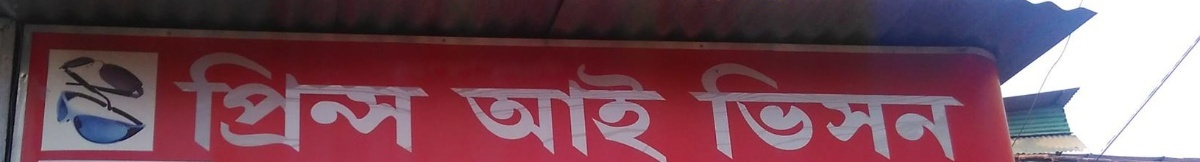text: (177, 51, 192, 152), (193, 51, 208, 152), (209, 51, 224, 152), (225, 51, 240, 152), (241, 51, 256, 152), (257, 51, 272, 152), (273, 51, 288, 152), (289, 51, 304, 152), (305, 51, 320, 152), (321, 51, 336, 152), (337, 51, 352, 152), (353, 51, 368, 152), (369, 51, 384, 152), (385, 51, 400, 152), (401, 51, 416, 152), (465, 62, 480, 162), (481, 62, 496, 162), (497, 62, 512, 162), (513, 62, 528, 162), (529, 62, 544, 162), (545, 62, 560, 162), (561, 62, 576, 162), (577, 62, 592, 162), (593, 62, 608, 162), (609, 62, 624, 162), (625, 62, 640, 162), (641, 62, 656, 162), (689, 63, 704, 160), (705, 63, 720, 160), (721, 63, 736, 160), (737, 63, 752, 160), (753, 63, 768, 160), (769, 63, 784, 160), (785, 63, 800, 160), (801, 63, 816, 160), (817, 63, 832, 160), (833, 63, 848, 160), (849, 63, 864, 160), (865, 63, 880, 160), (881, 63, 896, 160), (897, 63, 912, 160), (913, 63, 928, 160), (929, 63, 944, 160), (945, 63, 960, 160), (451, 62, 464, 162), (417, 51, 429, 152), (657, 62, 669, 162), (961, 63, 970, 160)
